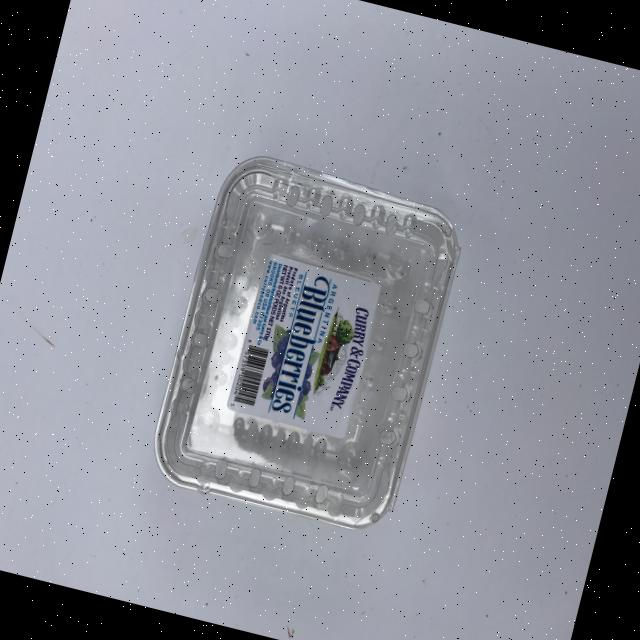plastic: (143, 145, 471, 539)
